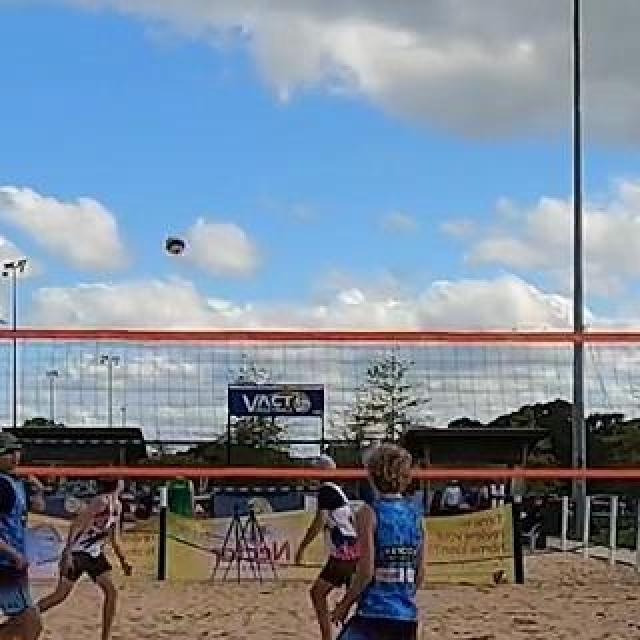volleyball: (166, 237, 186, 257), (491, 568, 511, 588)
